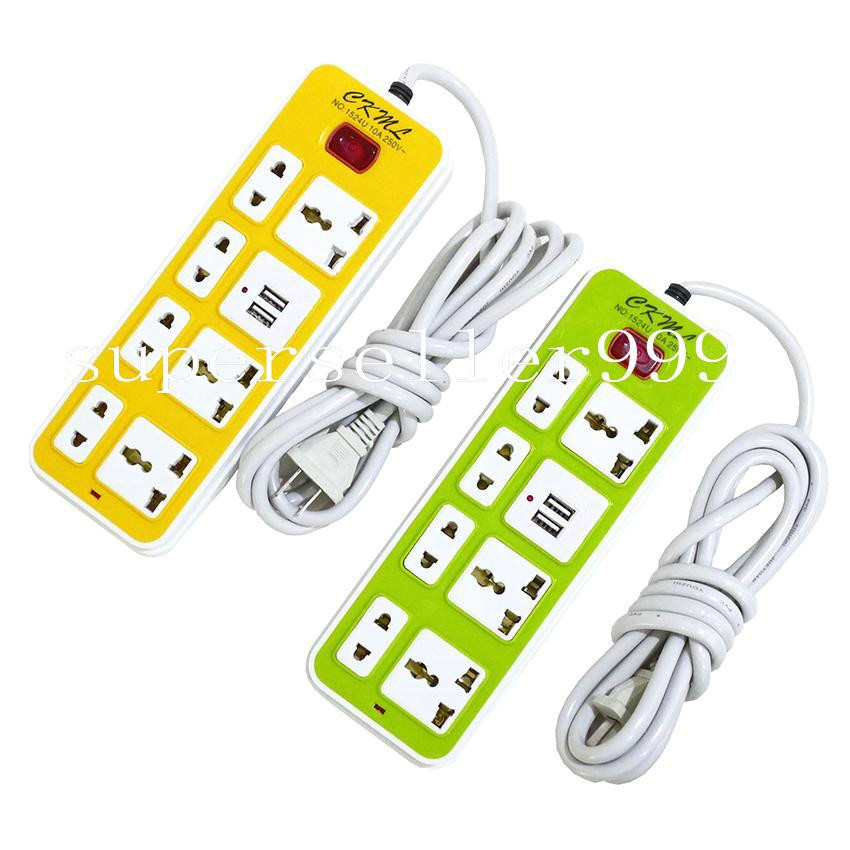Three_eye_plug: (279, 252, 746, 783), (13, 51, 455, 572)
